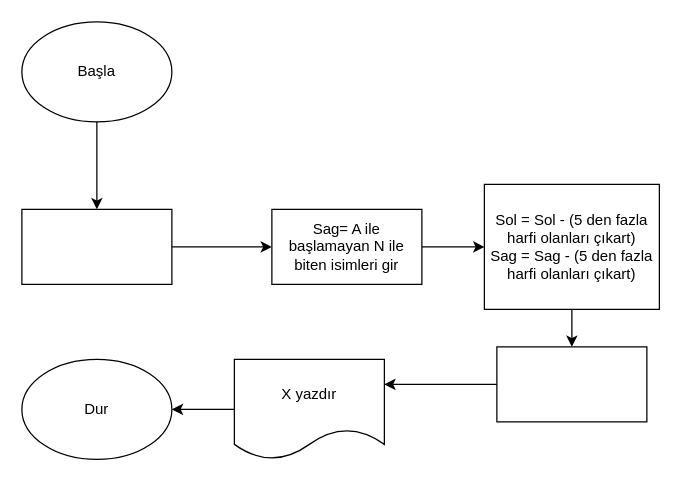
The diagram is 681 pixels wide and 481 high, and some of its shapes have lost their labels. Here are the shapes that lost their labels. From the top down, the centre of each, then its label:
the point at 96,246: Sol= A ile başlayan N ile bitmeyen isimleri gir
the point at 571,384: Sonuc = Sol + Sag
